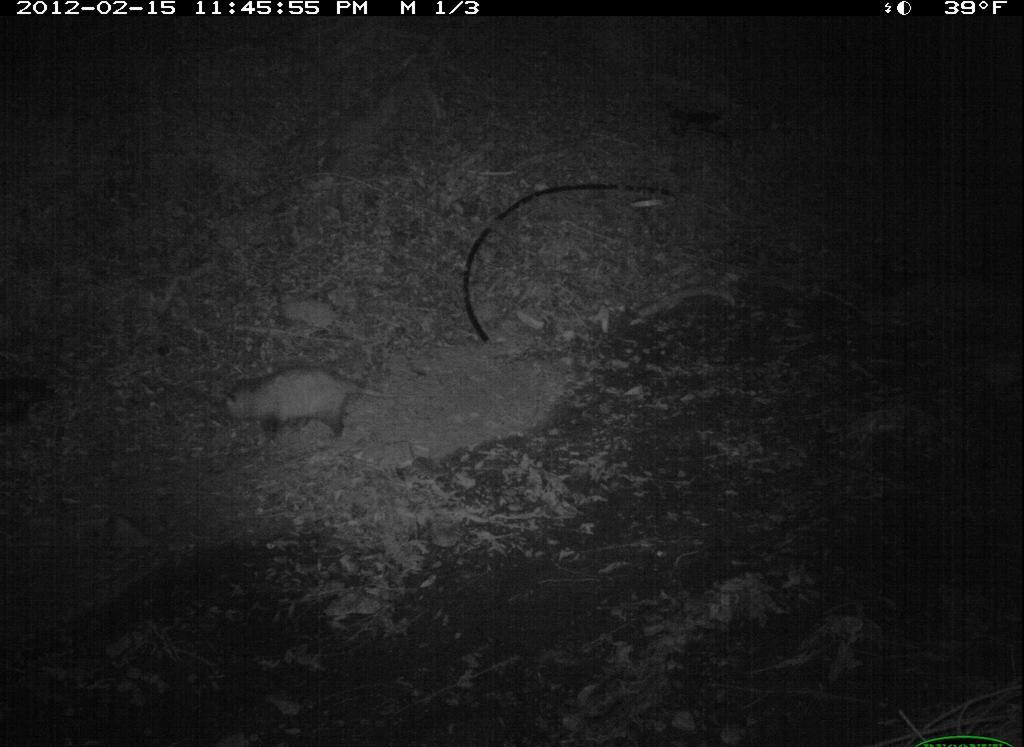opossum: (222, 362, 427, 459)
